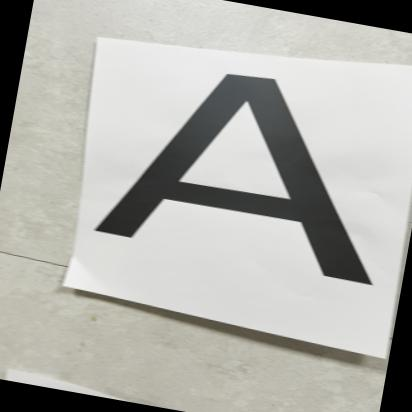seat: (73, 39, 412, 315)
